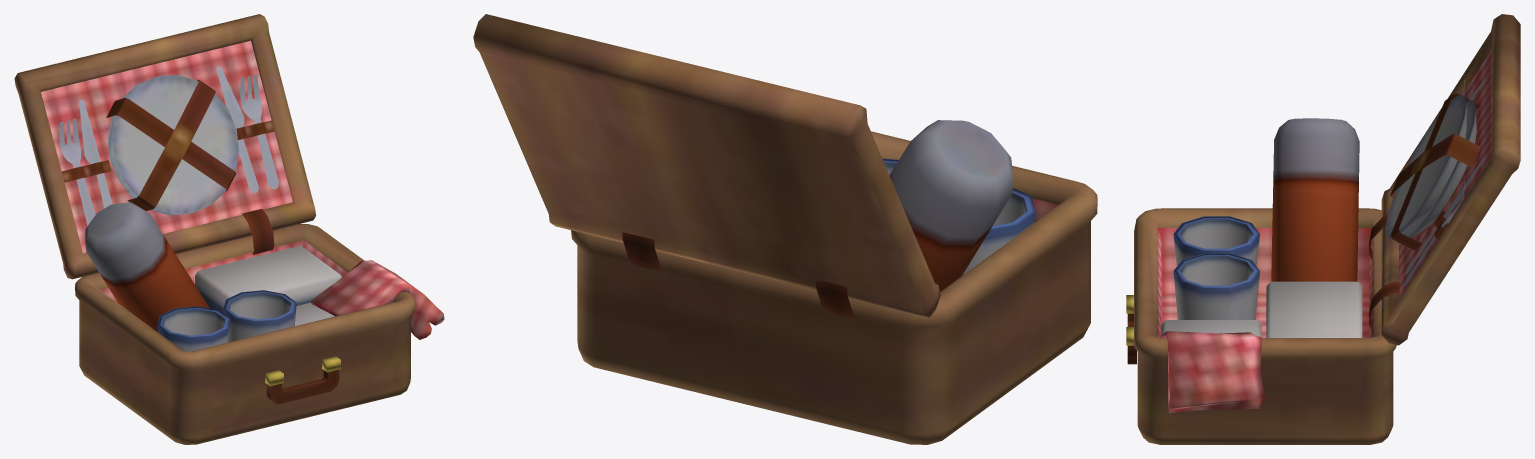
3 views of the same model, side by side, from view 1: azimuth 30°, elevation 25°; view 2: azimuth 150°, elevation 25°; view 3: azimuth 270°, elevation 25° (orthographic). The views are drawn at different scales.
Bounding box in the file's own units: 7.81 × 6.71 × 7.95.
Materials: 1 (1 with a texture image).
